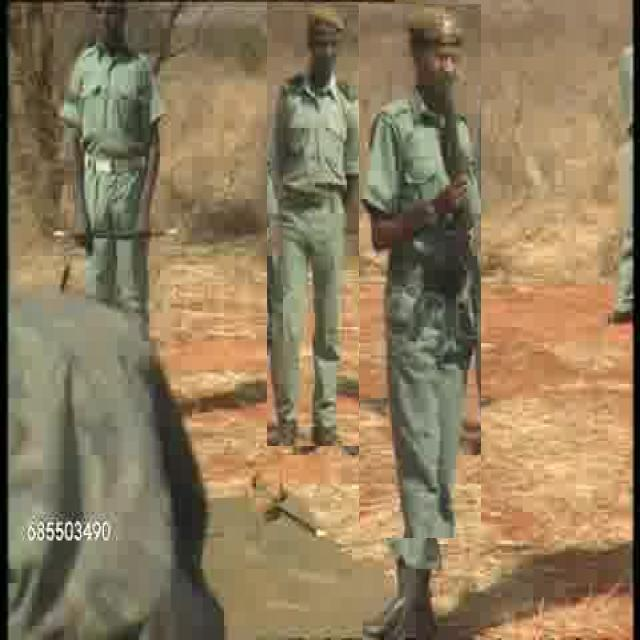poacher: (359, 4, 481, 538), (267, 2, 368, 446), (62, 3, 158, 320)
weapon: (371, 77, 400, 330)
